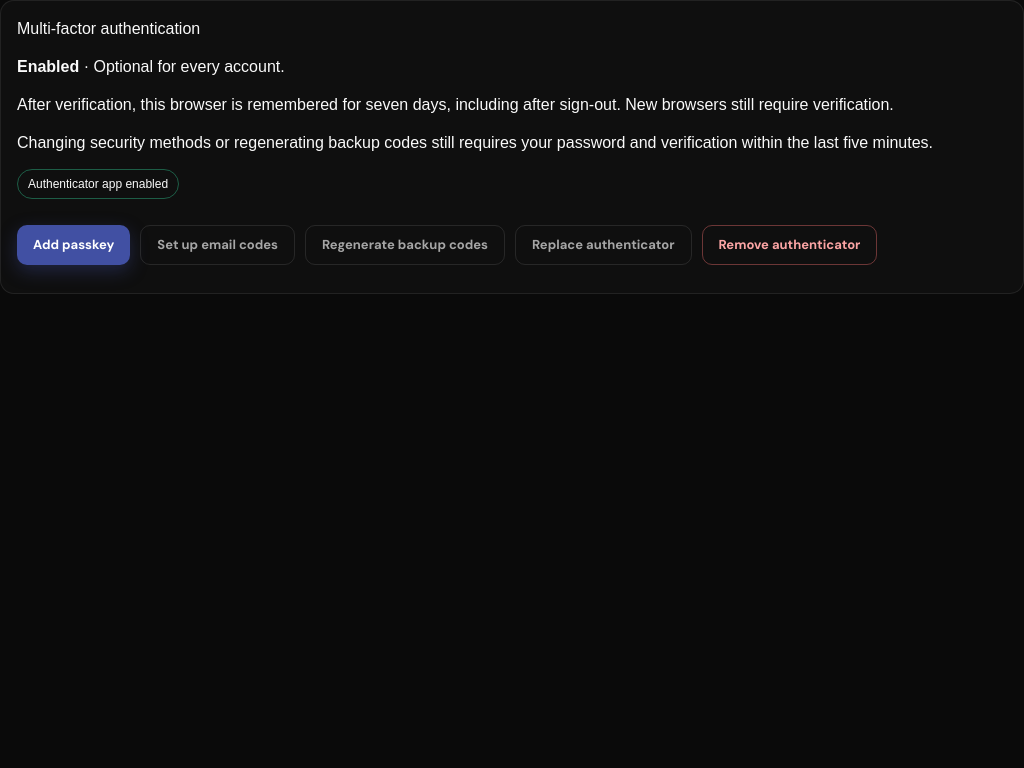
Test case: MFA screens › offers all methods and explains removing the last authenticator
This screenshot has width=1024, height=768.
Expected: the button "Replace authenticator" is shown, [515,225,692,265]
Expected: the button "Set up email codes" is shown, [140,225,295,265]
Click the button "Remove authenticator" at {"x": 789, "y": 245}, box [702,225,877,265]
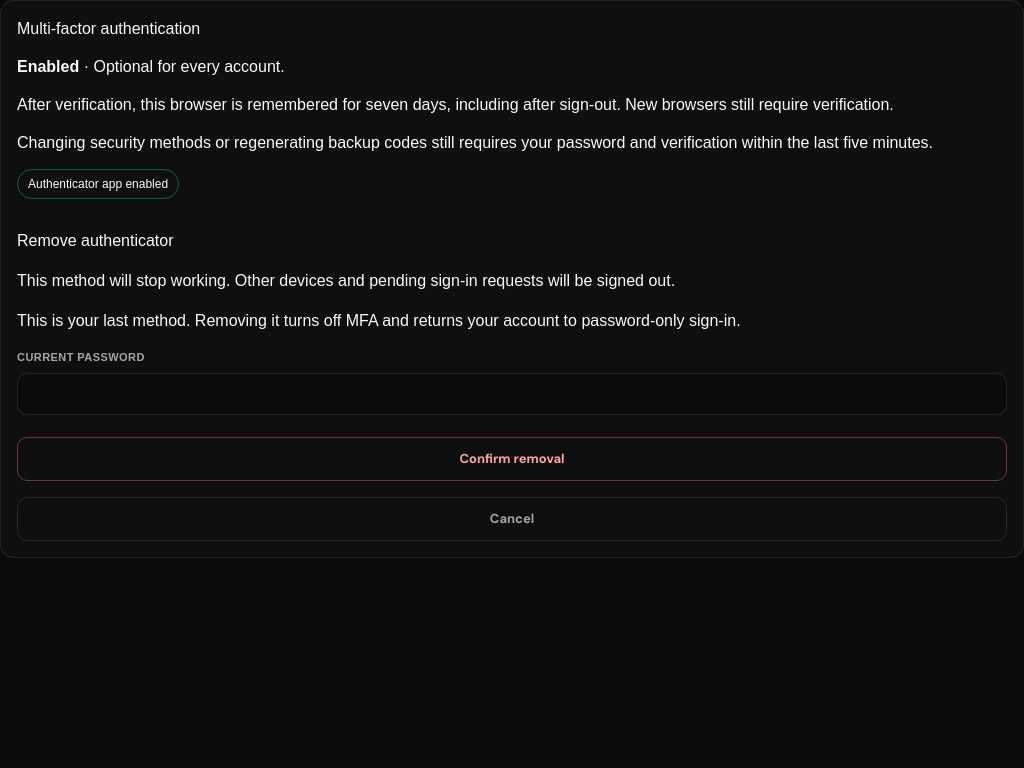
Expected: the text "returns your account to password-only sign-in" is shown, [17,312,741,329]
Expected: the password field labelled "Current password" is shown, [17,372,1007,414]
